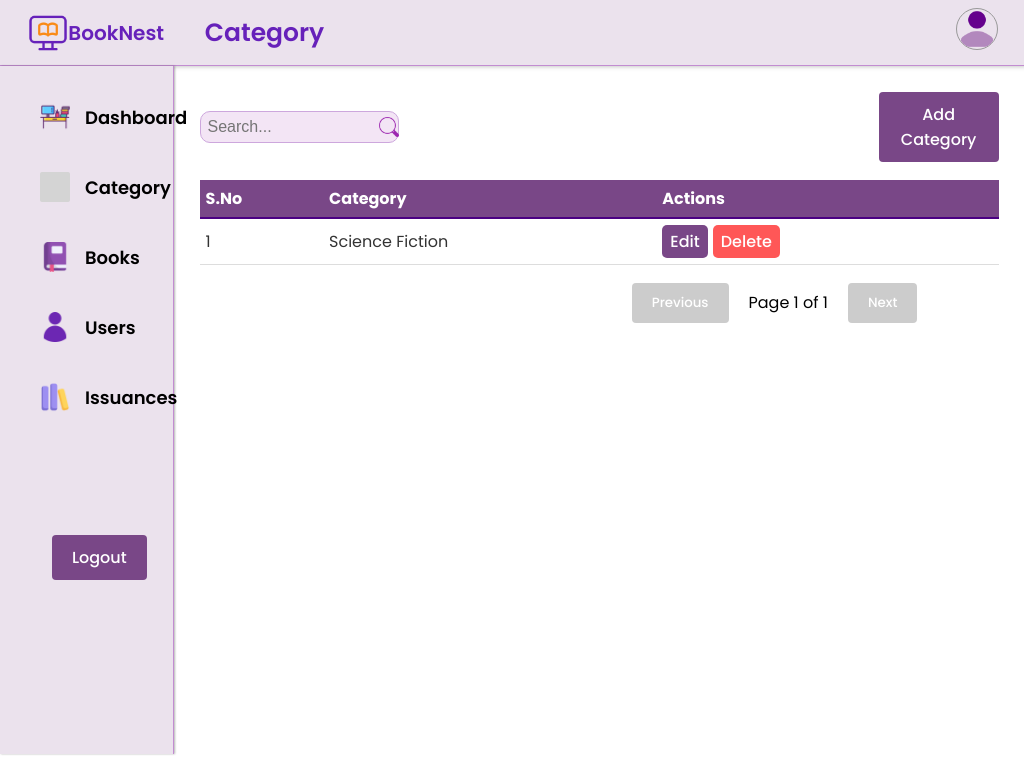
Category Component Delete Functionality › should close modal when cancel button is clicked
The image size is (1024, 768).
Expected: the text "Science Fiction" is shown, [323,218,656,264]
Click the button "Delete".
click(746, 241)  # box [713,225,780,258]
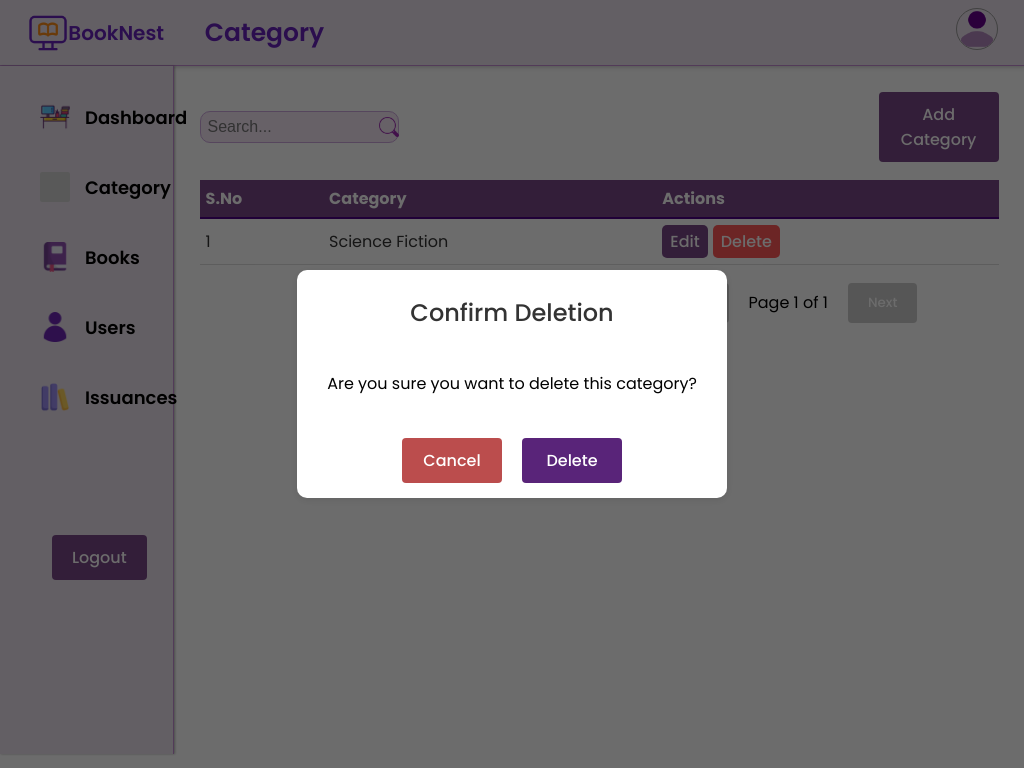
Click the button "Cancel".
click(452, 461)  # box [402,438,502,484]
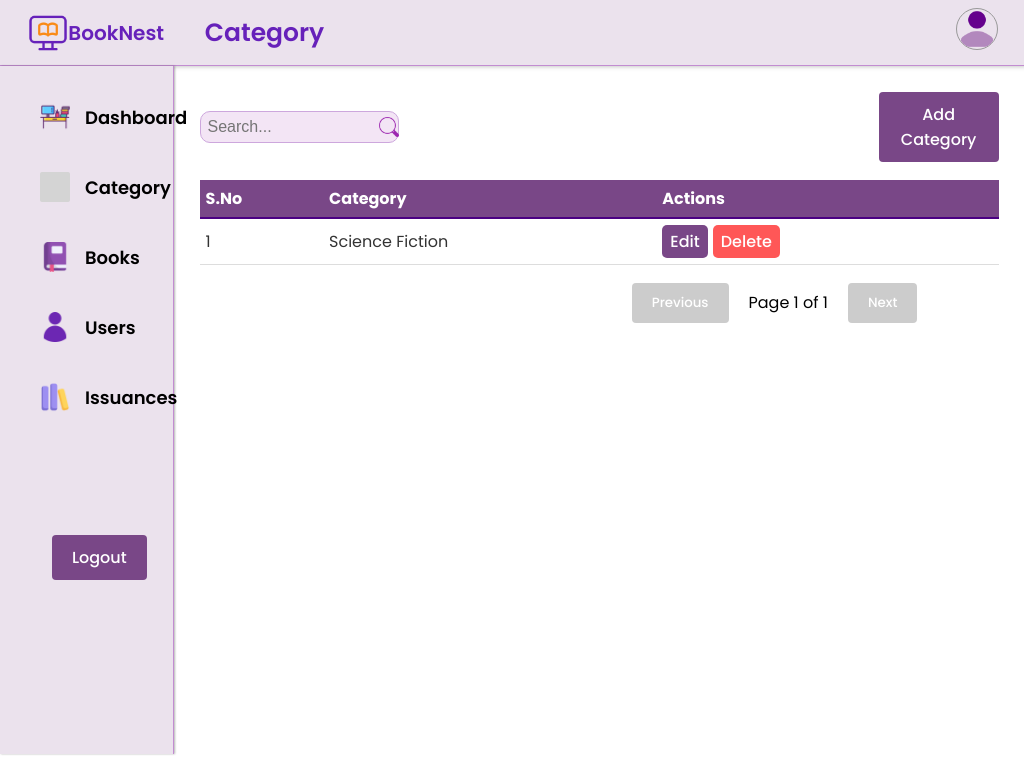
Now the text "Are you sure you want to delete this category?" is gone
